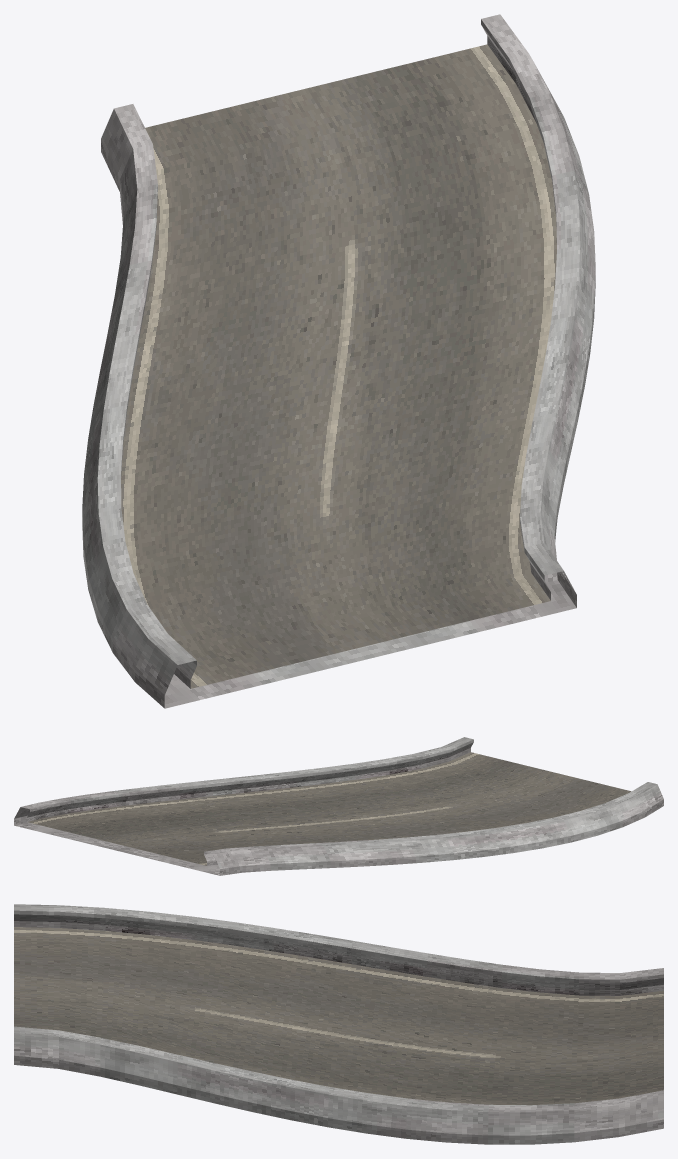
The model's file is road-Chicane-Flat-BiSlopeUp-Up1-Right1-Size2.glb.
The picture shows the model from 3 angles, top to bottom: view 1: azimuth 30°, elevation 25°; view 2: azimuth 150°, elevation 25°; view 3: azimuth 270°, elevation 25°; orthographic projection. The views are drawn at different scales.
Parts seen in each view (by area): view 1: road-Chicane-Flat-BiSlopeUp-Up1-Right1-Size2; view 2: road-Chicane-Flat-BiSlopeUp-Up1-Right1-Size2; view 3: road-Chicane-Flat-BiSlopeUp-Up1-Right1-Size2.
Boxes of the visible parts, x1,y1,x2,y2 form: road-Chicane-Flat-BiSlopeUp-Up1-Right1-Size2: (82, 14, 595, 708); road-Chicane-Flat-BiSlopeUp-Up1-Right1-Size2: (14, 737, 663, 875); road-Chicane-Flat-BiSlopeUp-Up1-Right1-Size2: (14, 904, 663, 1144).
Bounding box in the file's own units: 2 × 0.3438 × 2.
2 materials, 2 textured.
